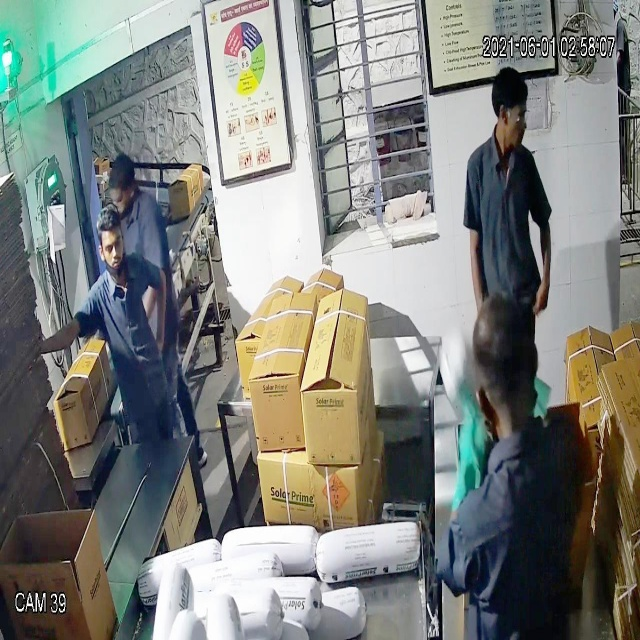Sin_gafas: (92, 226, 130, 262)
